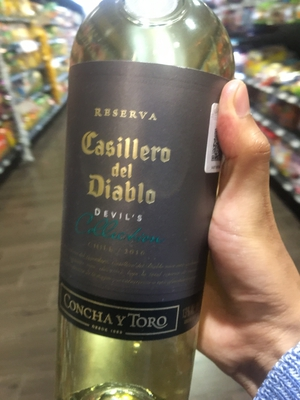casillero del diablo devils collection verde: (41, 1, 233, 400)
